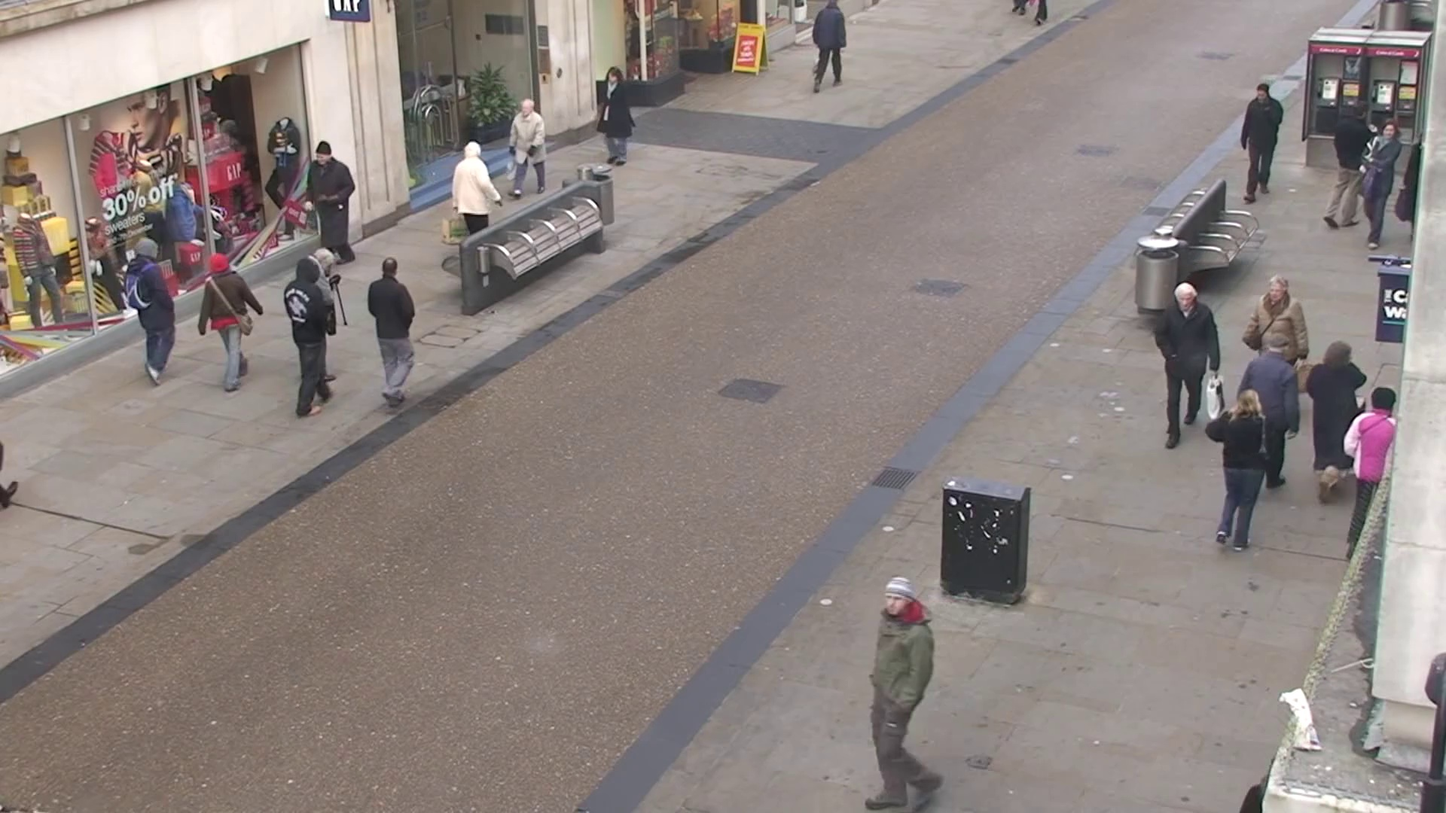person: (867, 576, 944, 810), (1153, 279, 1221, 449), (1237, 324, 1300, 489), (1206, 387, 1269, 551), (1304, 340, 1370, 486), (284, 253, 340, 419), (1342, 385, 1398, 547), (202, 254, 263, 391), (366, 257, 416, 406), (125, 243, 178, 382), (1324, 102, 1374, 230), (306, 139, 357, 263), (1359, 114, 1405, 250), (1247, 273, 1309, 366), (451, 137, 505, 242), (1240, 81, 1285, 204), (510, 97, 548, 194), (598, 69, 636, 166), (810, 0, 847, 93)
